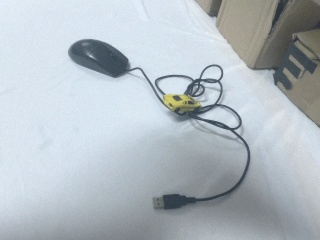box: (217, 1, 320, 69), (271, 28, 320, 133)
mouse: (68, 38, 131, 78)
toy_car: (161, 87, 205, 117)
